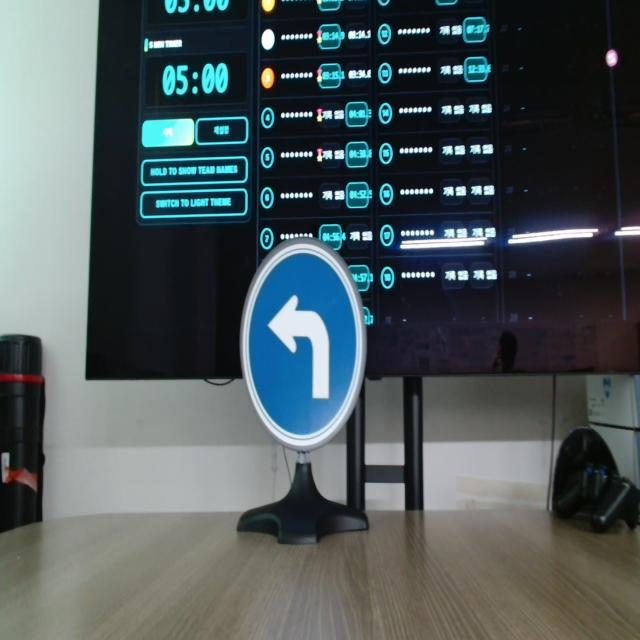left_direction: (248, 224, 375, 461)
